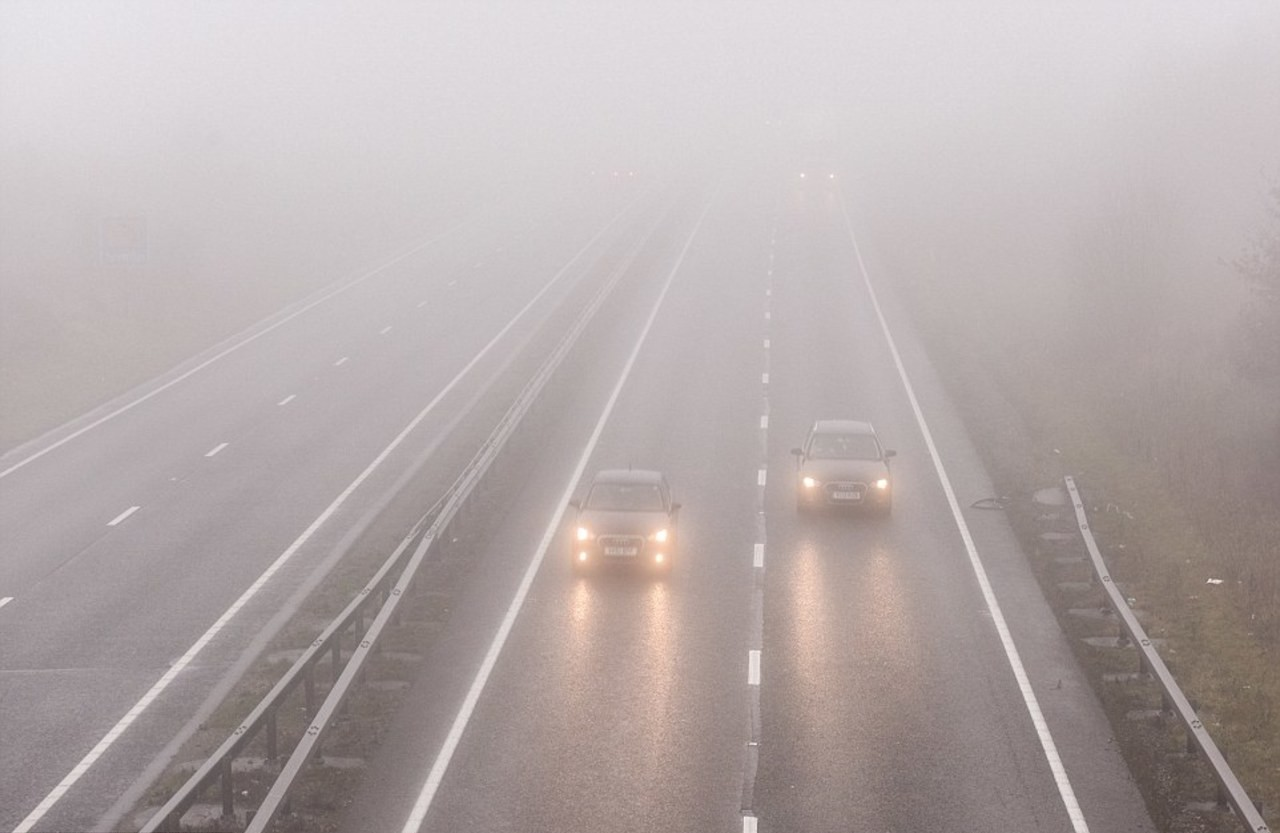car: (570, 471, 675, 575), (793, 422, 893, 517), (796, 153, 838, 191)
